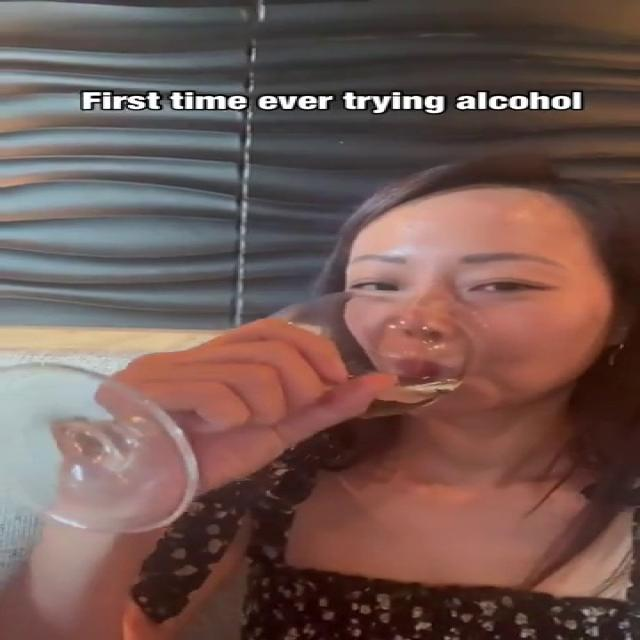Cup: (0, 289, 483, 532)
Hand: (92, 306, 401, 497)
Mouth: (378, 355, 471, 386)
